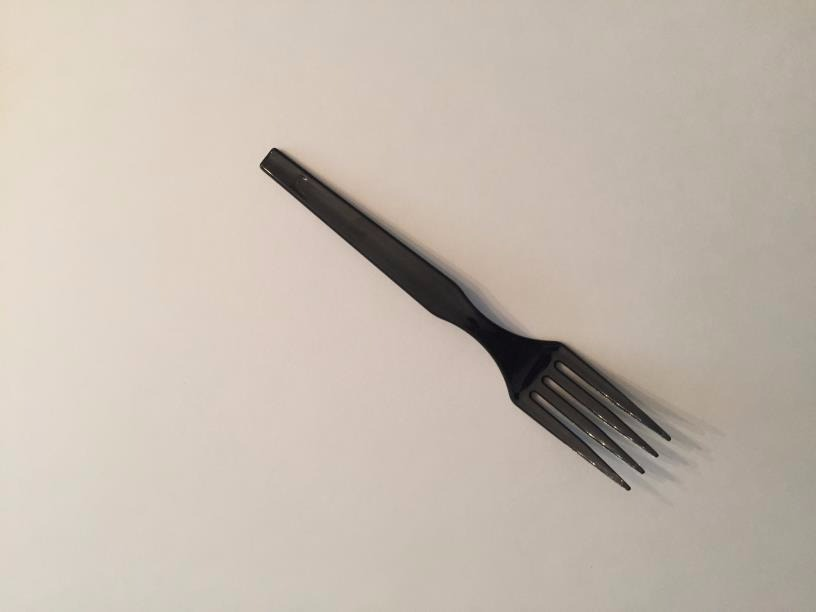fork: (235, 121, 692, 518)
